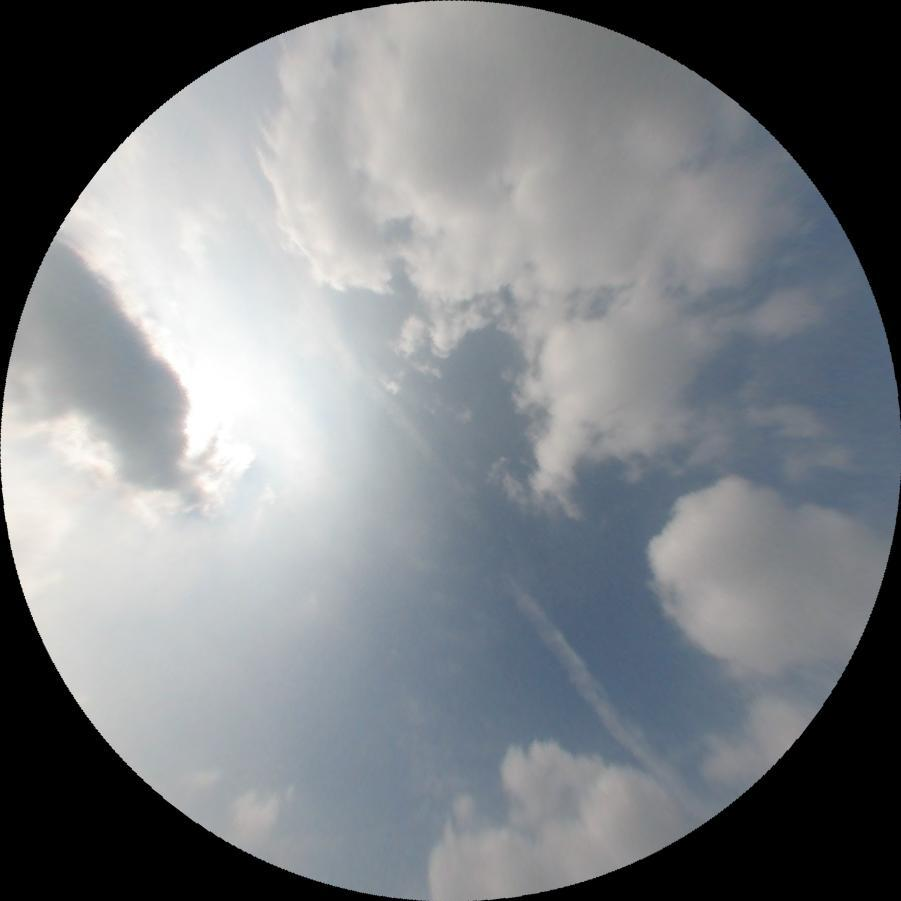contrail veryold: (468, 537, 715, 833), (291, 281, 491, 539)
sun: (169, 350, 223, 462)
